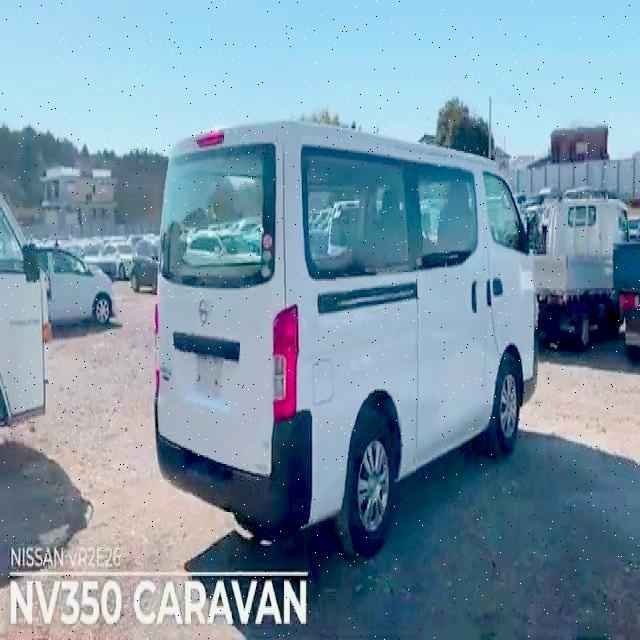Van: (149, 115, 538, 540)
